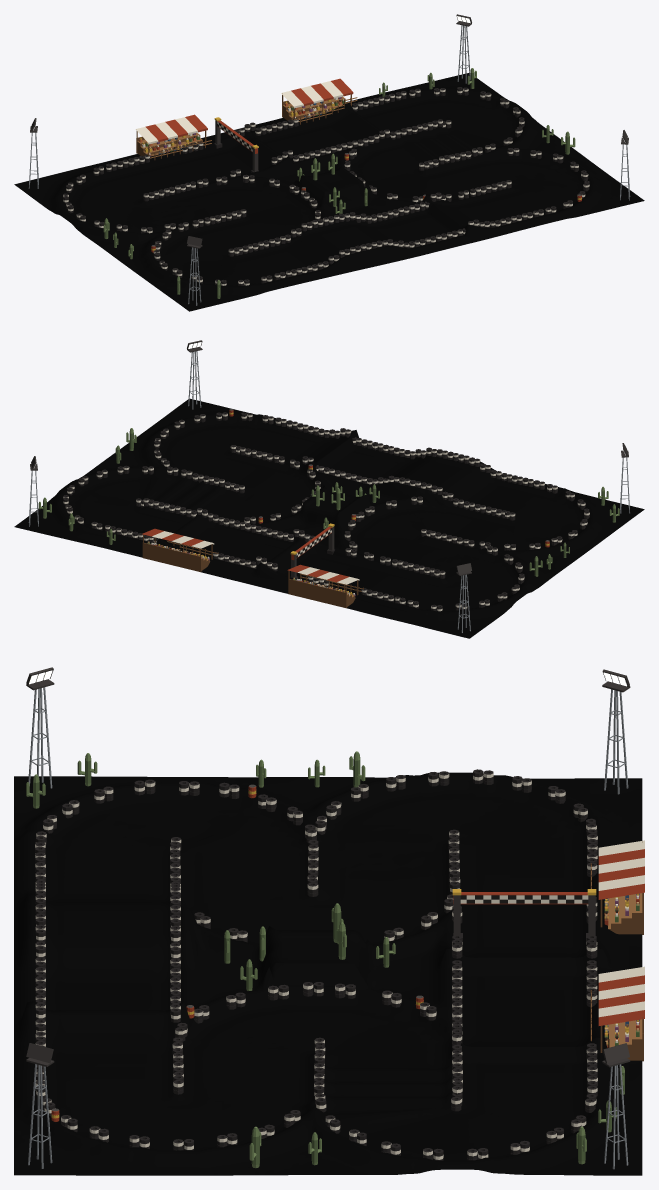
The model's file is track_3.glb.
The picture shows the model from 3 angles, top to bottom: view 1: azimuth 30°, elevation 25°; view 2: azimuth 150°, elevation 25°; view 3: azimuth 270°, elevation 25°; orthographic projection. The views are drawn at different scales.
Parts seen in each view (by area): view 1: track_3_ground, t3_grandstand_1, t3_grandstand_2, t3_start_arch_0, t3_floodlight_5, t3_floodlight_4; view 2: track_3_ground, t3_grandstand_1, t3_grandstand_2, t3_start_arch_0, t3_floodlight_3, t3_floodlight_6; view 3: track_3_ground, t3_grandstand_1, t3_grandstand_2, t3_start_arch_0, t3_floodlight_4, t3_floodlight_6, t3_floodlight_3, t3_floodlight_5.
Part boxes in pixels (x1,y1,x2,y2): track_3_ground: (14, 73, 644, 311); t3_grandstand_1: (135, 114, 207, 156); t3_grandstand_2: (281, 78, 353, 120); t3_start_arch_0: (214, 117, 258, 172); t3_floodlight_5: (187, 236, 202, 305); t3_floodlight_4: (456, 14, 471, 83); track_3_ground: (14, 398, 644, 638); t3_grandstand_1: (287, 564, 359, 608); t3_grandstand_2: (142, 528, 214, 572); t3_start_arch_0: (290, 523, 334, 578); t3_floodlight_3: (456, 563, 471, 632); t3_floodlight_6: (187, 340, 202, 409); track_3_ground: (14, 772, 642, 1175); t3_grandstand_1: (598, 840, 644, 934); t3_grandstand_2: (598, 966, 644, 1061); t3_start_arch_0: (452, 889, 596, 943); t3_floodlight_4: (602, 1043, 630, 1169); t3_floodlight_6: (26, 1043, 54, 1168); t3_floodlight_3: (602, 669, 630, 794); t3_floodlight_5: (26, 667, 54, 788).
Bounding box in the file's own units: 72 × 10.22 × 48.2.
30 materials, 1 textured.
